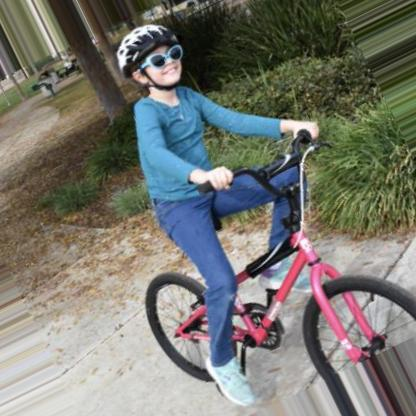with helmet: (118, 23, 183, 88)
